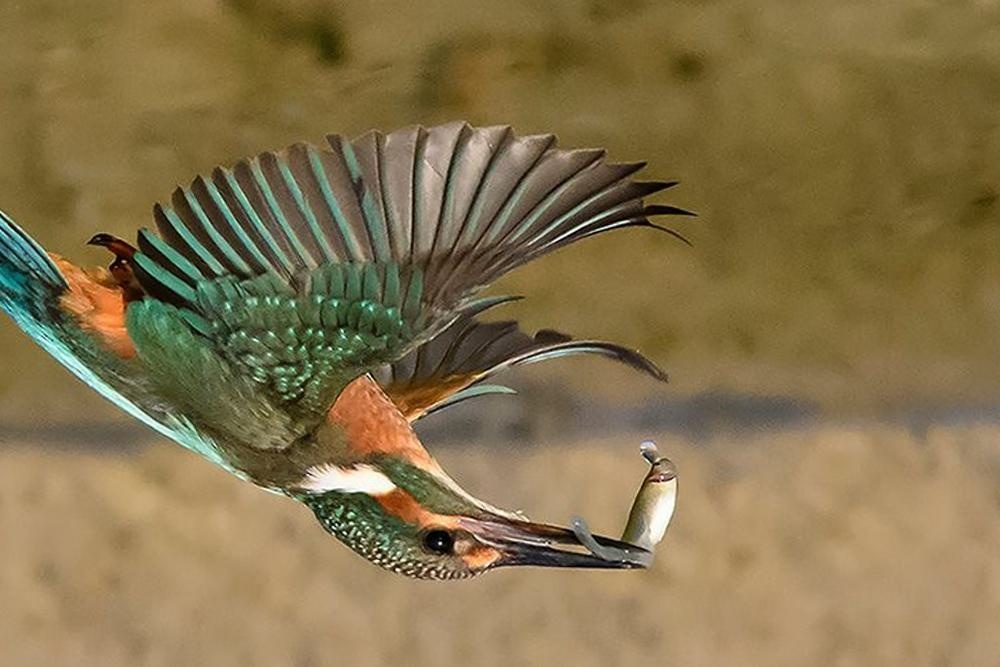kingfisher: (1, 109, 685, 610)
